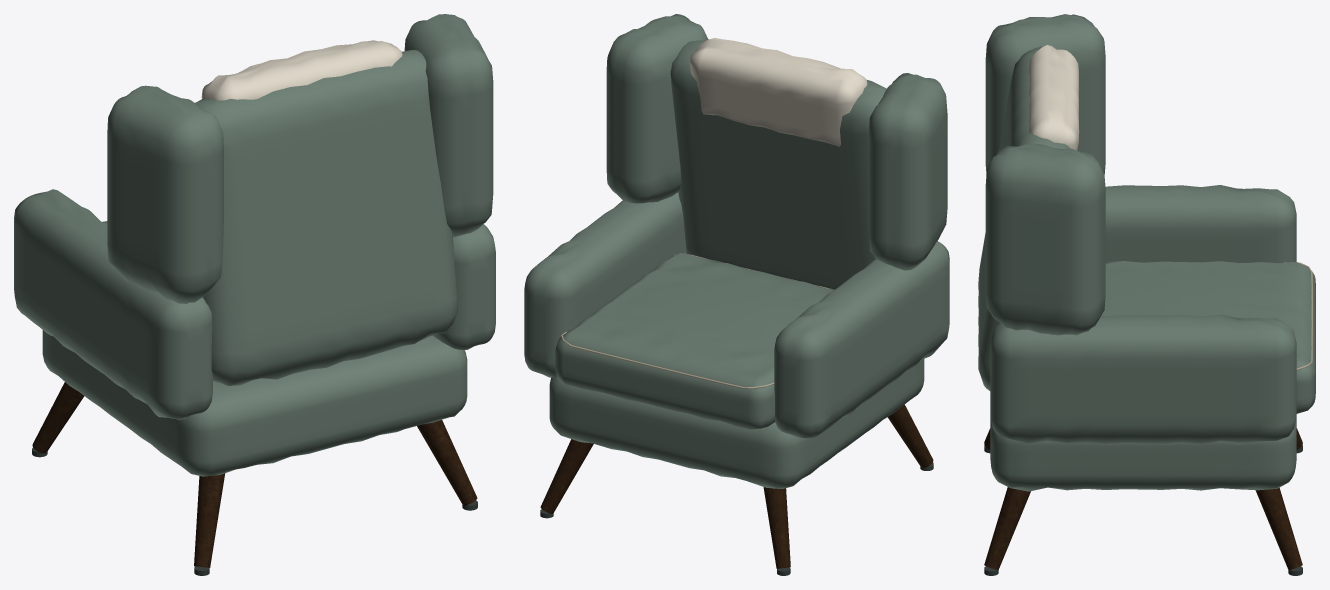
File: lounge-wing-chair.glb
3 renders of one model, left to right at view 1: azimuth 30°, elevation 25°; view 2: azimuth 150°, elevation 25°; view 3: azimuth 270°, elevation 25°, orthographic. The views are drawn at different scales.
Parts seen in each view (by area): view 1: velvet_surfaces, linen_surfaces, walnut_surfaces; view 2: velvet_surfaces, linen_surfaces, walnut_surfaces, welt_surfaces; view 3: velvet_surfaces, linen_surfaces, walnut_surfaces.
Boxes of the visible parts, x1,y1,x2,y2 form: velvet_surfaces: (14, 14, 495, 476); linen_surfaces: (201, 40, 402, 100); walnut_surfaces: (32, 382, 477, 567); velvet_surfaces: (524, 14, 949, 488); linen_surfaces: (690, 37, 867, 146); walnut_surfaces: (540, 404, 933, 568); welt_surfaces: (561, 253, 830, 388); velvet_surfaces: (978, 14, 1315, 491); linen_surfaces: (1028, 45, 1079, 150); walnut_surfaces: (984, 428, 1302, 569).
Size of the model in its own units: 0.9166 by 1.12 by 0.7937.
5 materials, 1 textured.
